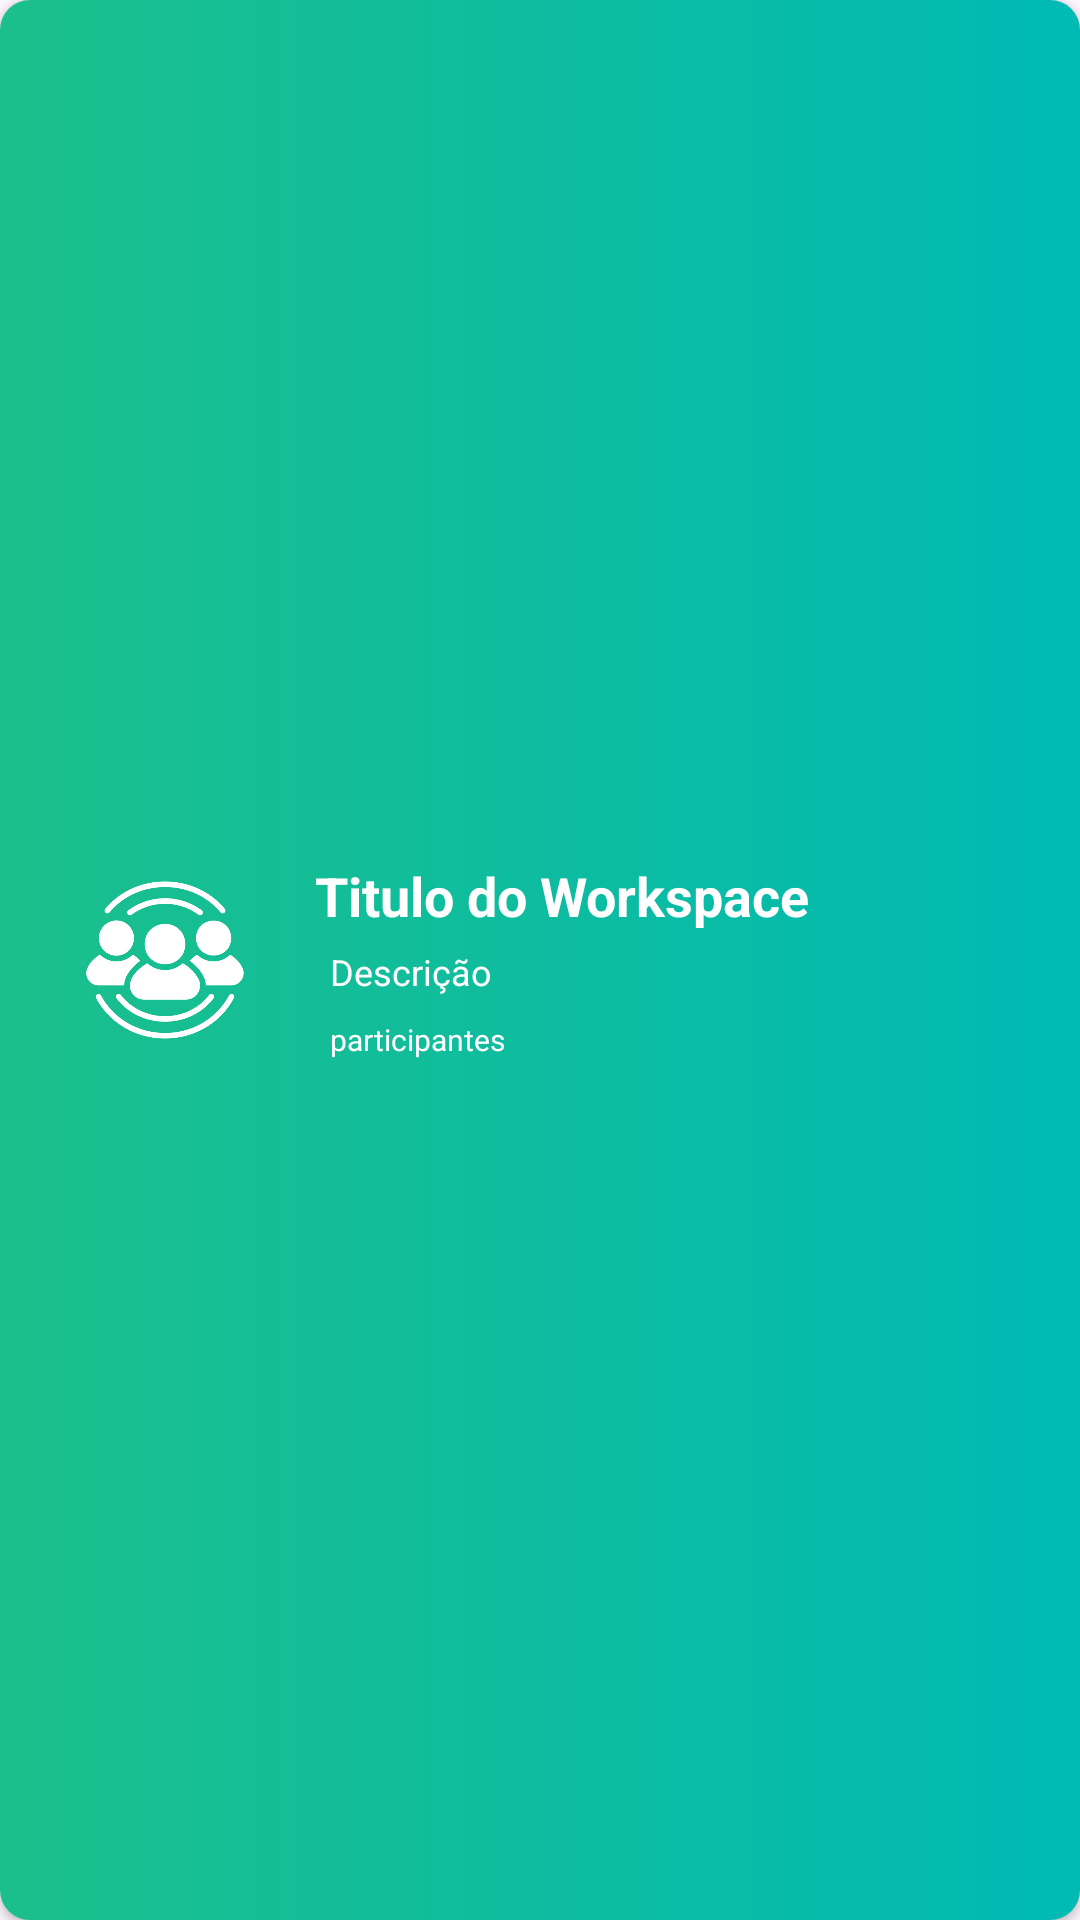

Where icons sit on this 1080 x 1920 app screen, as bbox=(x1, y1, x2, y2):
community: bbox=(86, 881, 244, 1039)
